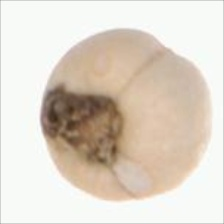L4: (40, 29, 212, 200)
